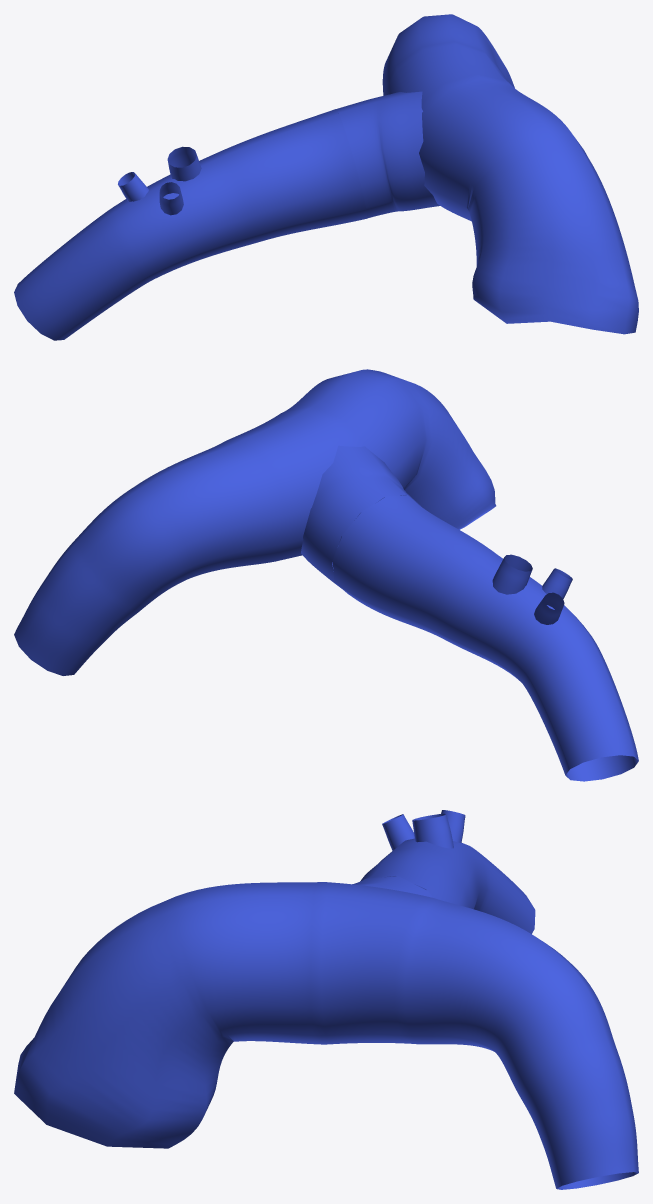
Rendered from a1vessel22.glb.
3 renders of one model, top to bottom at view 1: azimuth 30°, elevation 25°; view 2: azimuth 150°, elevation 25°; view 3: azimuth 270°, elevation 25°, orthographic. The views are drawn at different scales.
Parts seen in each view (by area): view 1: a1.003; view 2: a1.003; view 3: a1.003.
Part boxes in pixels (bbox=[...]): a1.003: bbox=[14, 14, 638, 340]; a1.003: bbox=[14, 369, 638, 781]; a1.003: bbox=[14, 810, 638, 1189].
Bounding box in the file's own units: 3.76 × 1.48 × 3.19.
